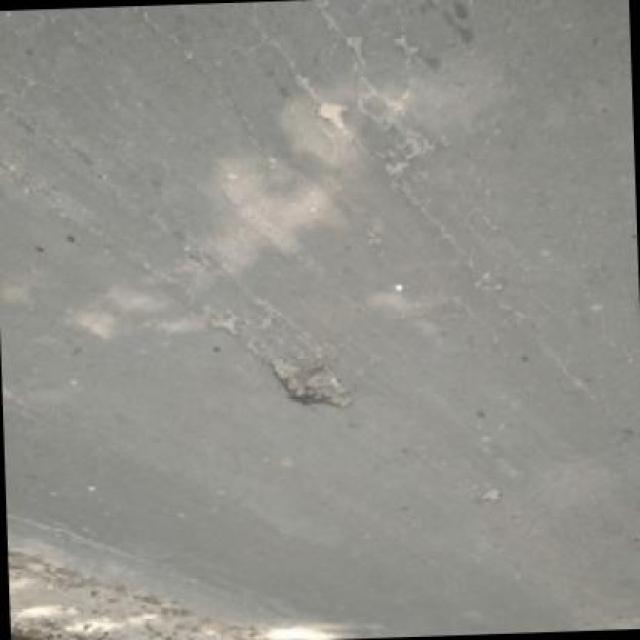pothole: (267, 355, 351, 416), (314, 101, 351, 133), (59, 601, 106, 624), (10, 592, 41, 612), (476, 488, 501, 506), (62, 627, 86, 638), (30, 621, 56, 630), (11, 637, 26, 640)
